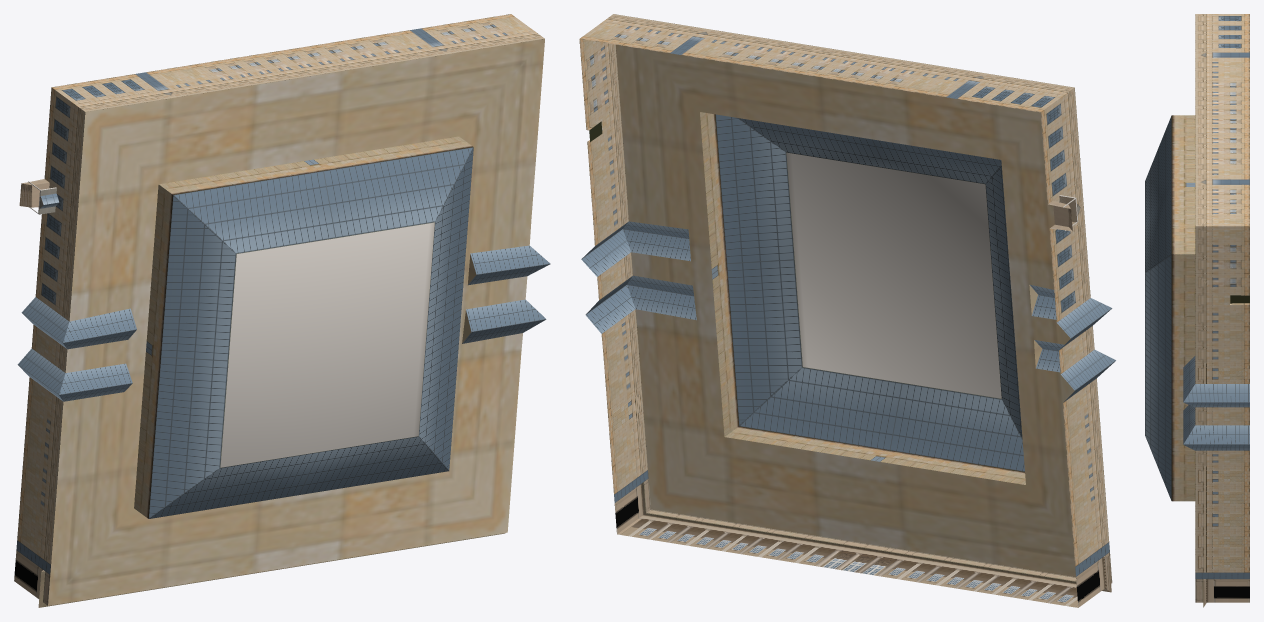
The model's file is DEU_601_KARLSRUHE_KONGRES_S.OBJ.
3 renders of one model, left to right at view 1: azimuth 30°, elevation 25°; view 2: azimuth 150°, elevation 25°; view 3: azimuth 270°, elevation 25°, orthographic. The views are drawn at different scales.
Visible parts, largest first — view 1: DEU_601_KARLSRUHE_KONGRES_S; view 2: DEU_601_KARLSRUHE_KONGRES_S; view 3: DEU_601_KARLSRUHE_KONGRES_S.
Part boxes in pixels (bbox=[...]): DEU_601_KARLSRUHE_KONGRES_S: bbox=[14, 14, 550, 607]; DEU_601_KARLSRUHE_KONGRES_S: bbox=[579, 14, 1115, 607]; DEU_601_KARLSRUHE_KONGRES_S: bbox=[1145, 14, 1249, 607].
Bounding box in the file's own units: 89.72 × 90.37 × 20.15.
Materials: 1 (1 with a texture image).
